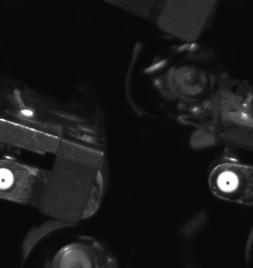fiber: (213, 168, 242, 194), (1, 166, 22, 195)
